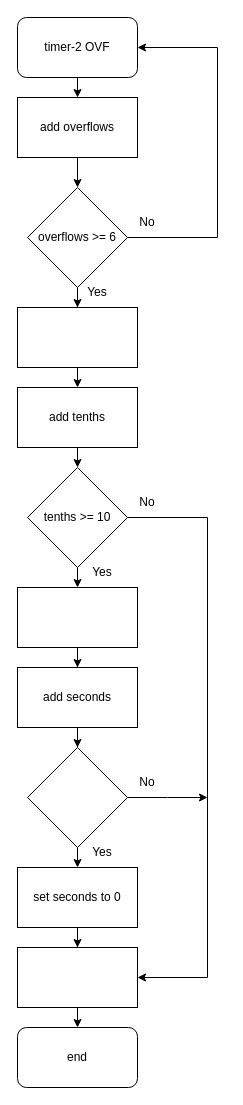
This 243x1105 diagram has some shape labels left out. Here are the shapes that lost their labels. From the top down, the box of each, then its label:
(16, 306, 138, 368): set overflows to 0
(16, 586, 138, 648): set tenths to 0
(26, 746, 128, 848): seconds >= 60
(16, 946, 138, 1008): display tenths and seconds
